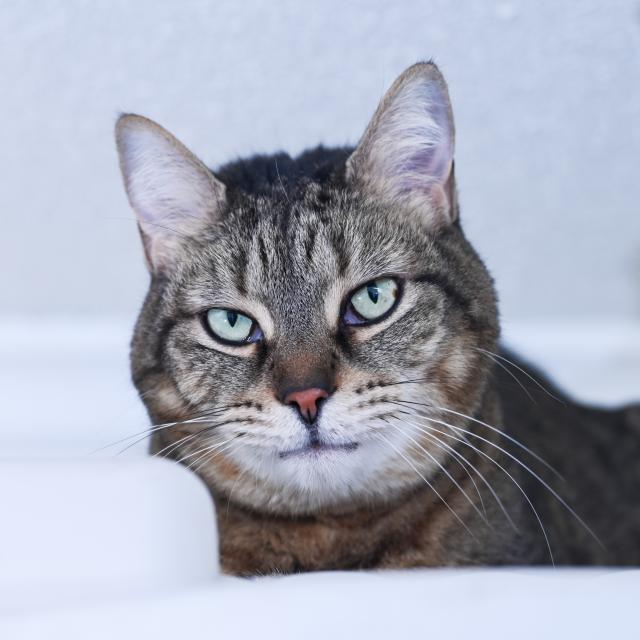manx_cat: (91, 50, 553, 549)
